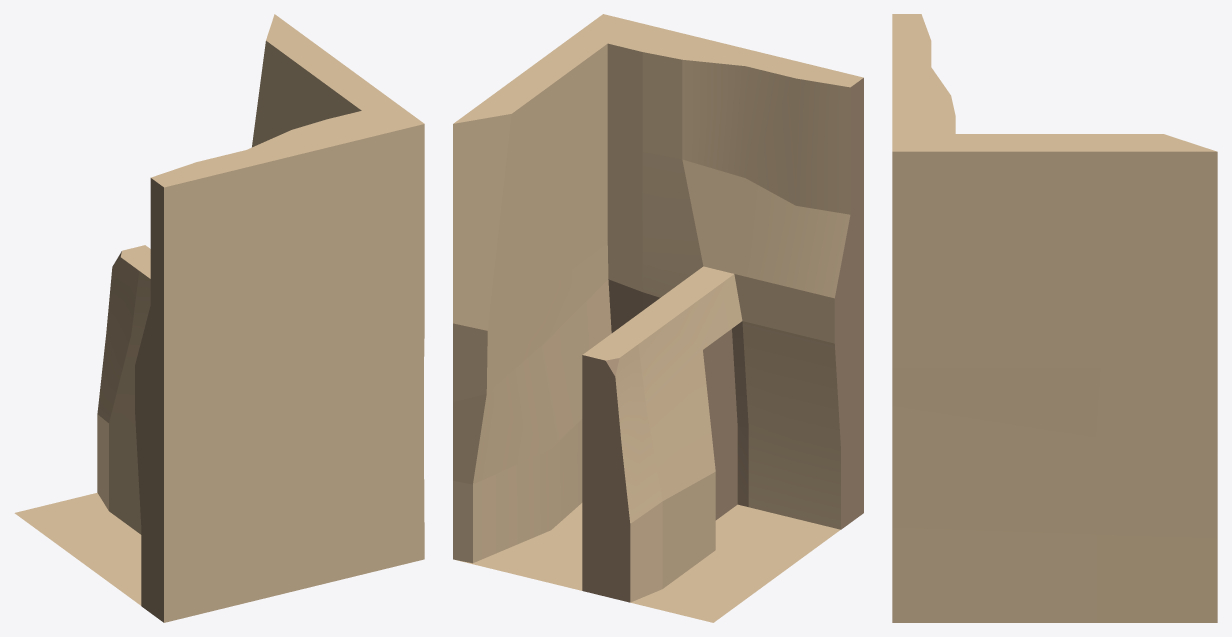
The model's file is CornerSlidingDoor.fbx.
3 renders of one model, left to right at view 1: azimuth 30°, elevation 25°; view 2: azimuth 150°, elevation 25°; view 3: azimuth 270°, elevation 25°, orthographic. The views are drawn at different scales.
Visible parts, largest first — view 1: CornerSlidingDoor; view 2: CornerSlidingDoor, CornerSlidingDoorDoor; view 3: CornerSlidingDoor.
Part boxes in pixels (<box>): CornerSlidingDoor: <box>14,14,424,622</box>; CornerSlidingDoor: <box>453,14,863,622</box>; CornerSlidingDoorDoor: <box>703,329,737,520</box>; CornerSlidingDoor: <box>892,14,1217,622</box>.
Size of the model in its own units: 5.01 by 8 by 5.
